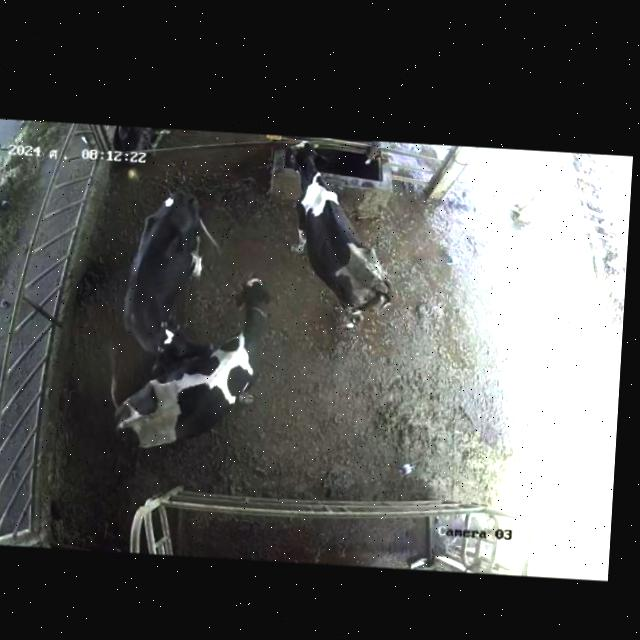drink: (272, 131, 346, 207)
stand: (77, 259, 276, 464), (114, 175, 208, 356)
